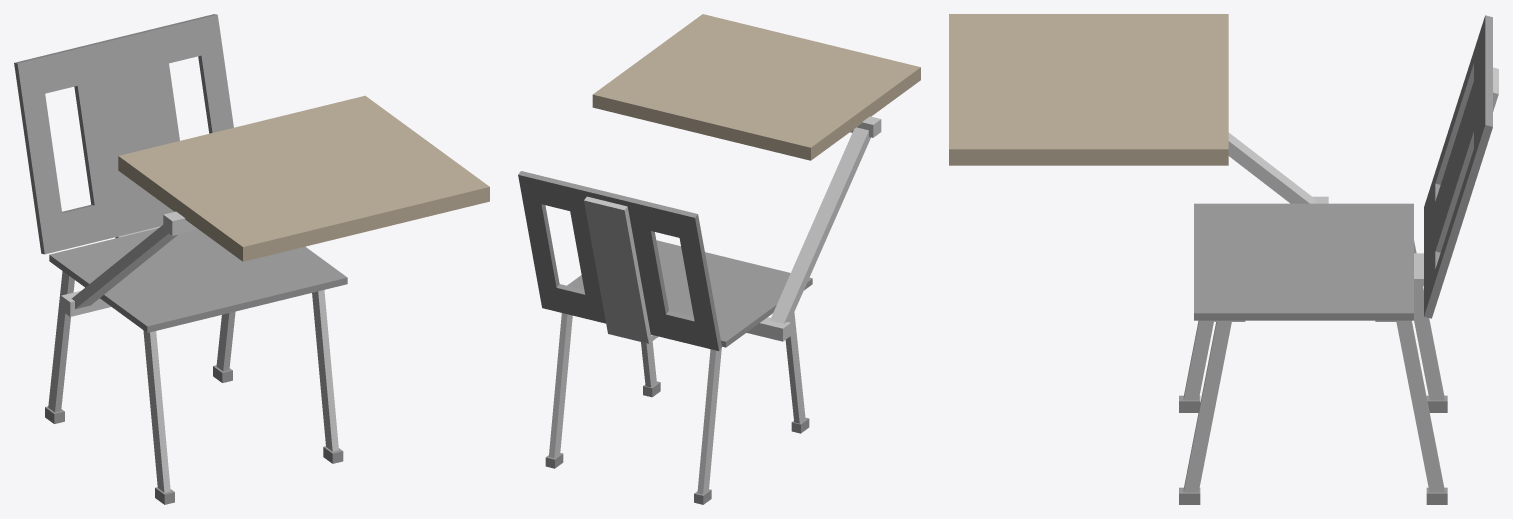
Rendered from chair1.fbx.
3 renders of one model, left to right at view 1: azimuth 30°, elevation 25°; view 2: azimuth 150°, elevation 25°; view 3: azimuth 270°, elevation 25°, orthographic. The views are drawn at different scales.
Visible parts, largest first — view 1: chair1.002, chair1, chair1.001; view 2: chair1, chair1.002, chair1.001; view 3: chair1, chair1.002, chair1.001.
Part boxes in pixels (x1,y1,x2,y2): chair1.002: (14,14,347,504); chair1: (118,95,489,261); chair1.001: (48,211,338,492); chair1: (592,14,920,160); chair1.002: (518,171,812,504); chair1.001: (548,116,881,494); chair1: (949,14,1228,165); chair1.002: (1179,15,1492,504); chair1.001: (1183,67,1498,492).
Bounding box in the file's own units: 79.68 × 101 × 130.
